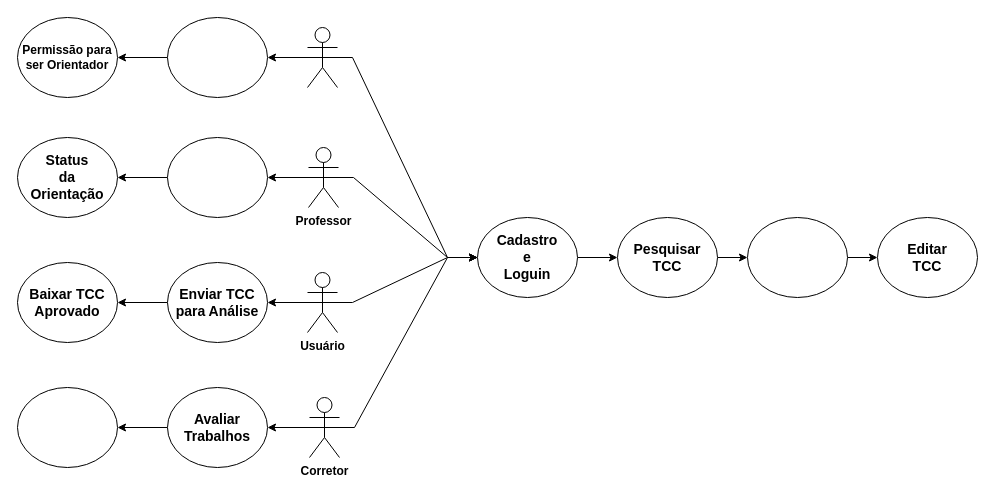
The diagram is 995 pixels wide and 496 high, and some of its shapes have lost their labels. Here are the shapes that lost their labels. From the top down, the centre of each, then its label:
[217,57]: Vincular Orientador e Aluno
[322,57]: Coordenador
[217,177]: Aprovar TCC
[797,257]: Visualizar TCC
[67,427]: Ranquear Alunos e Cursos
